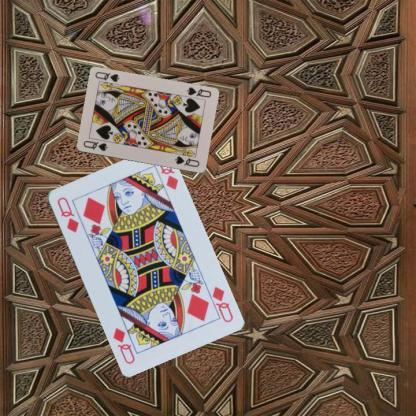Qd: (203, 284, 234, 324), (54, 194, 80, 234)
Qs: (80, 138, 109, 153), (184, 84, 212, 99)
